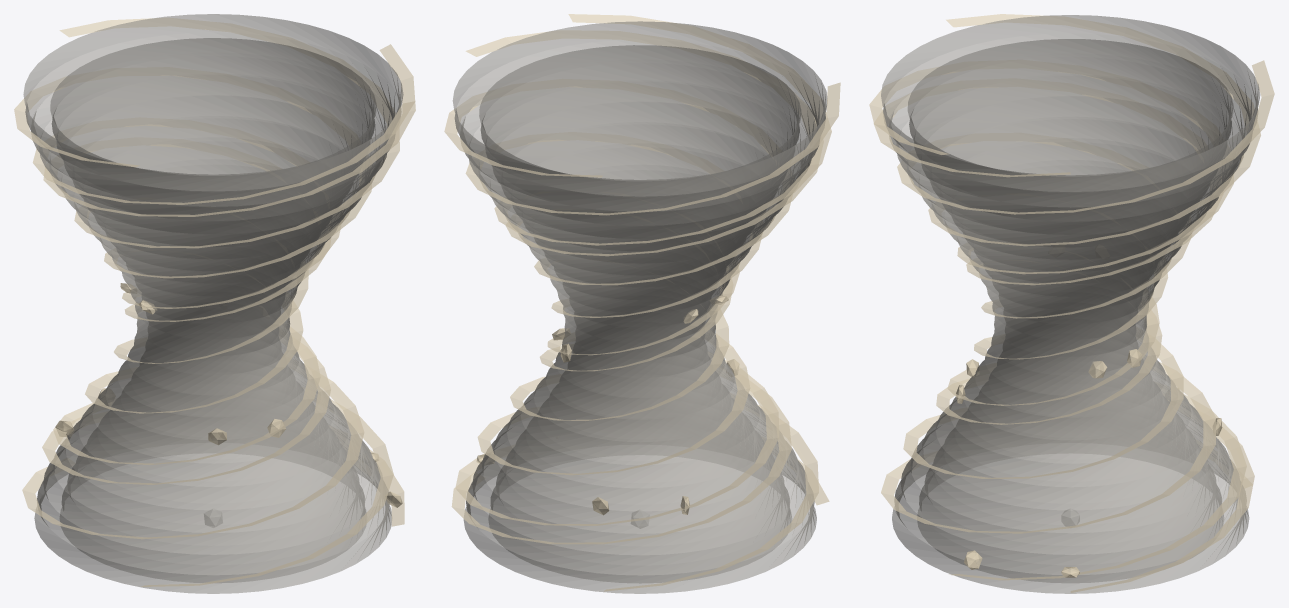
File: tornado.glb
3 views of the same model, side by side, from view 1: azimuth 30°, elevation 25°; view 2: azimuth 150°, elevation 25°; view 3: azimuth 270°, elevation 25° (orthographic).
Visible parts, largest first — view 1: TornadoOuter, TornadoInner, WindRibbon3.8, WindRibbon1.9, WindRibbon5.6, WindRibbon0.0; view 2: TornadoOuter, TornadoInner, WindRibbon0.0, WindRibbon1.9, WindRibbon5.6, WindRibbon3.8; view 3: TornadoOuter, TornadoInner, WindRibbon3.8, WindRibbon5.6, WindRibbon0.0, WindRibbon1.9.
Part boxes in pixels (bbox=[...]): TornadoOuter: bbox=[23, 14, 403, 593]; TornadoInner: bbox=[50, 38, 376, 582]; WindRibbon3.8: bbox=[14, 67, 393, 586]; WindRibbon1.9: bbox=[22, 18, 399, 539]; WindRibbon5.6: bbox=[32, 101, 415, 526]; WindRibbon0.0: bbox=[42, 44, 415, 484]; TornadoOuter: bbox=[452, 21, 827, 593]; TornadoInner: bbox=[479, 45, 801, 582]; WindRibbon0.0: bbox=[451, 30, 823, 544]; WindRibbon1.9: bbox=[444, 79, 818, 591]; WindRibbon5.6: bbox=[455, 14, 831, 525]; WindRibbon3.8: bbox=[465, 82, 840, 505]; TornadoOuter: bbox=[881, 15, 1260, 593]; TornadoInner: bbox=[907, 39, 1233, 582]; WindRibbon3.8: bbox=[881, 14, 1260, 533]; WindRibbon5.6: bbox=[869, 60, 1246, 580]; WindRibbon0.0: bbox=[873, 79, 1254, 592]; WindRibbon1.9: bbox=[897, 60, 1274, 487].
Size of the model in its own units: 5.59 by 6.66 by 5.56.
